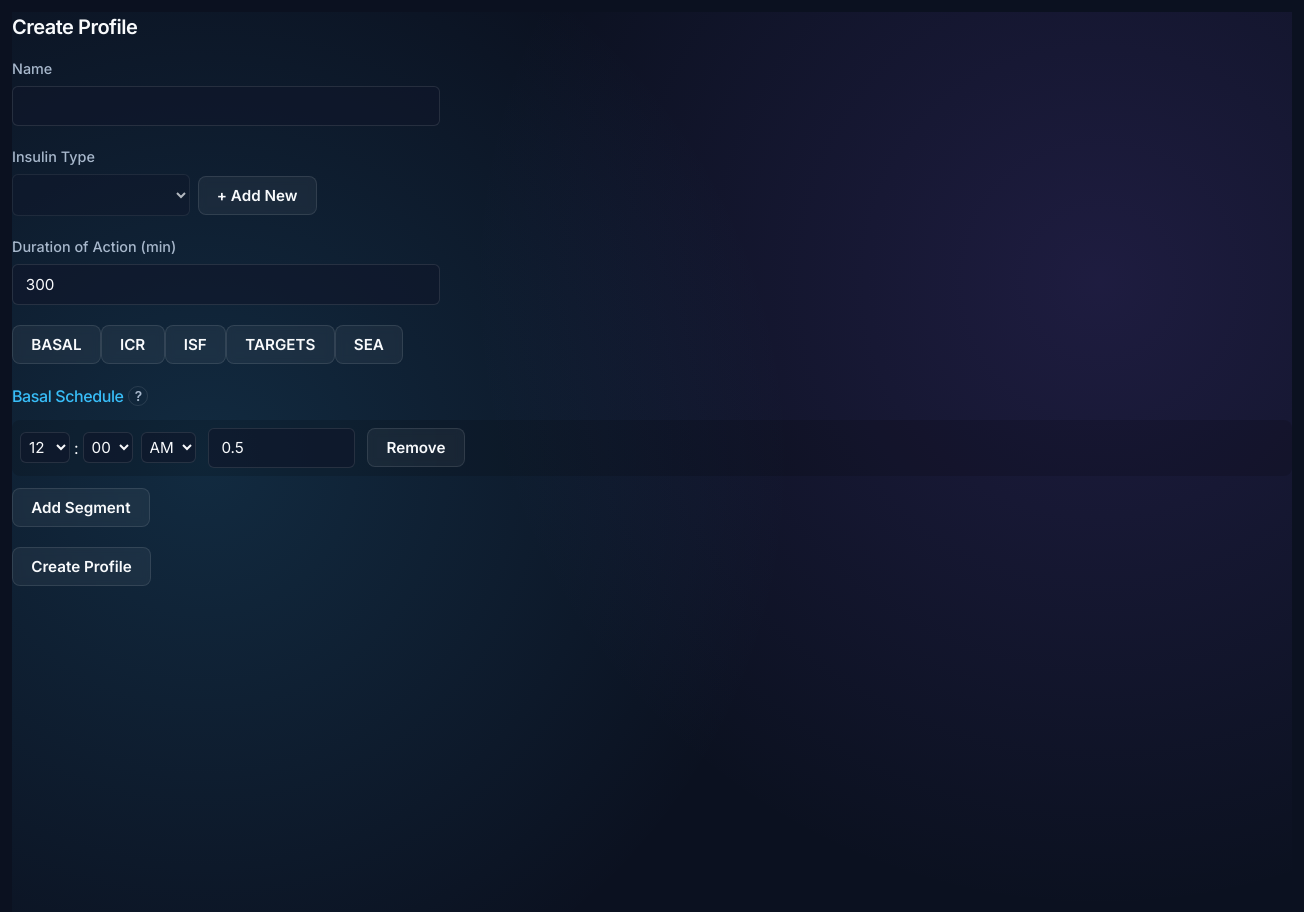
Test case: ProfileEditor › + Add New button shows new insulin text input
Step 1. Click the button "+ Add New" → (257, 195), box [198,176,317,215]
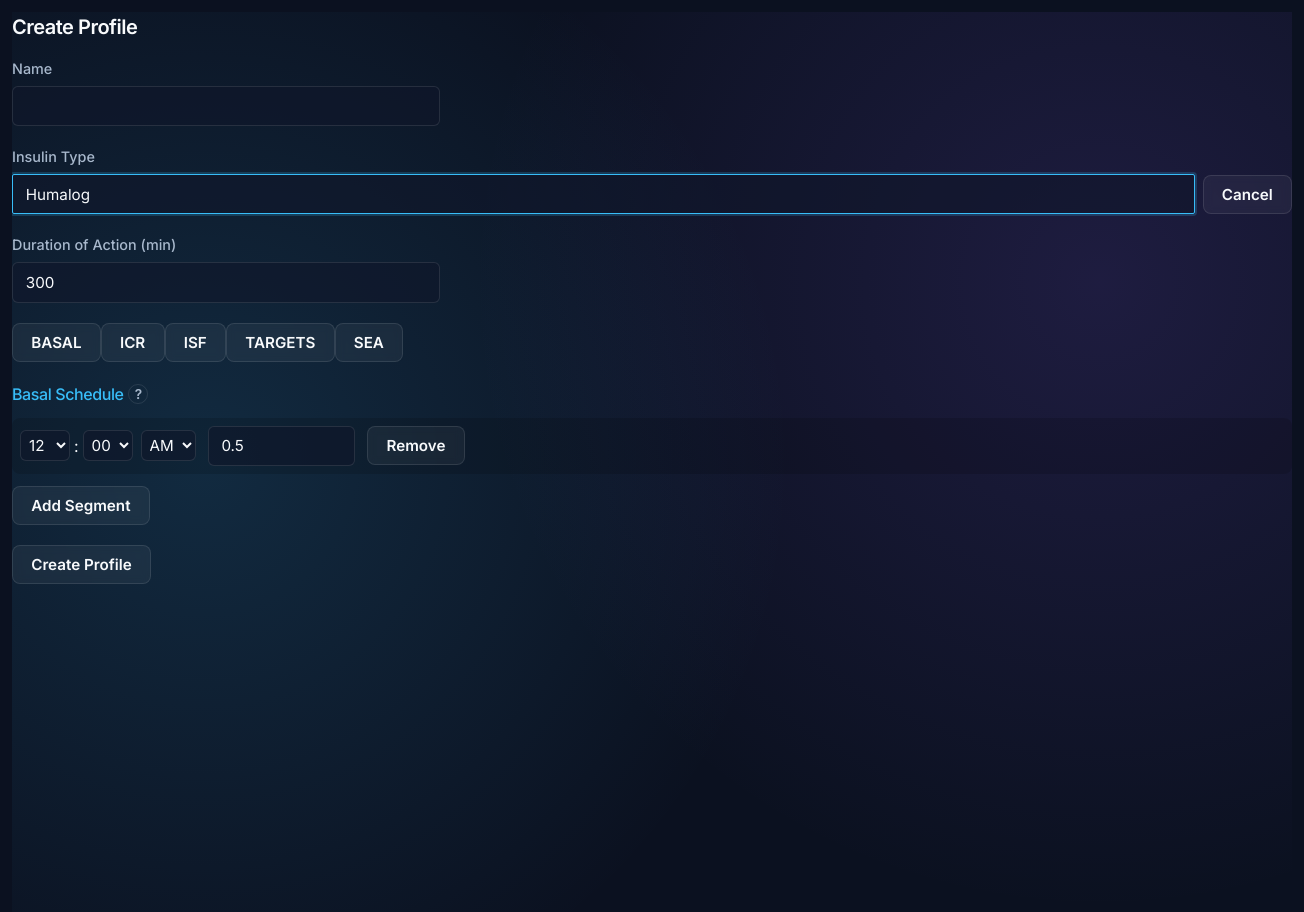
Expected: the field with placeholder "Enter new insulin name" is shown, [12,174,1194,214]
